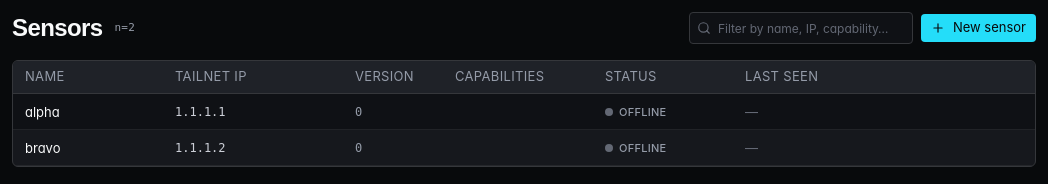
SensorsView › filters the list when typing in the search box
The image size is (1048, 184).
Expected: the text "alpha" is shown, left=25, top=102, right=60, bottom=122
Type "brav" into the field with placeholder "Filter by name, IP, capability…".
click(801, 28); type("brav")  # box left=689, top=12, right=913, bottom=44
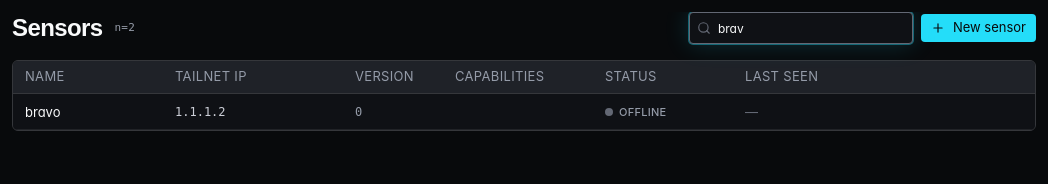
Expected: the text "bravo" is shown, left=25, top=102, right=60, bottom=122
Result: the text "alpha" is gone
